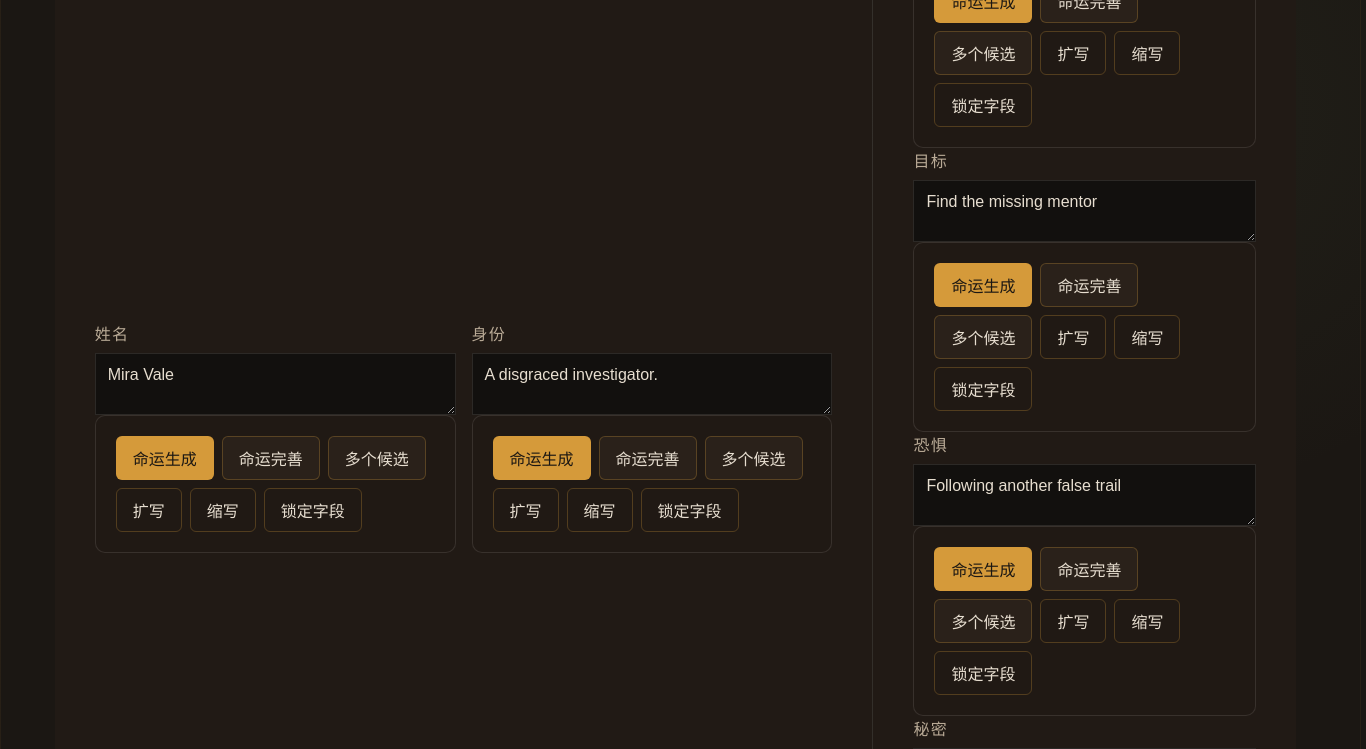
Test: Universal Character Creation page › renders all universal groups and dynamic fields in Advanced, then saves before preparing
(page scrolled)
Step 1. Replace the text in the text box labelled "姓名" with "米拉·维尔" → coordinates (275, 384), box [95, 354, 456, 416]
(page scrolled)
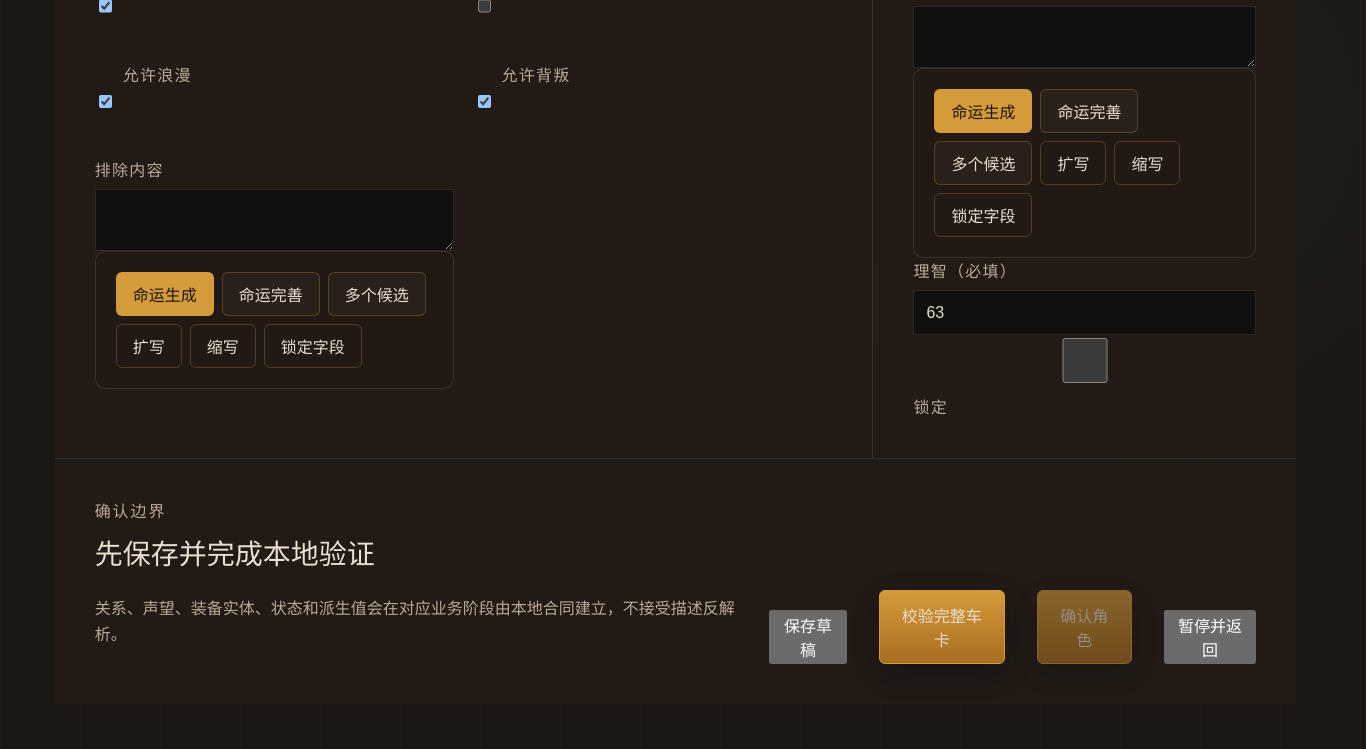
Step 2. Click the button "校验完整车卡" → coordinates (942, 627), box [879, 590, 1004, 664]
(page scrolled)
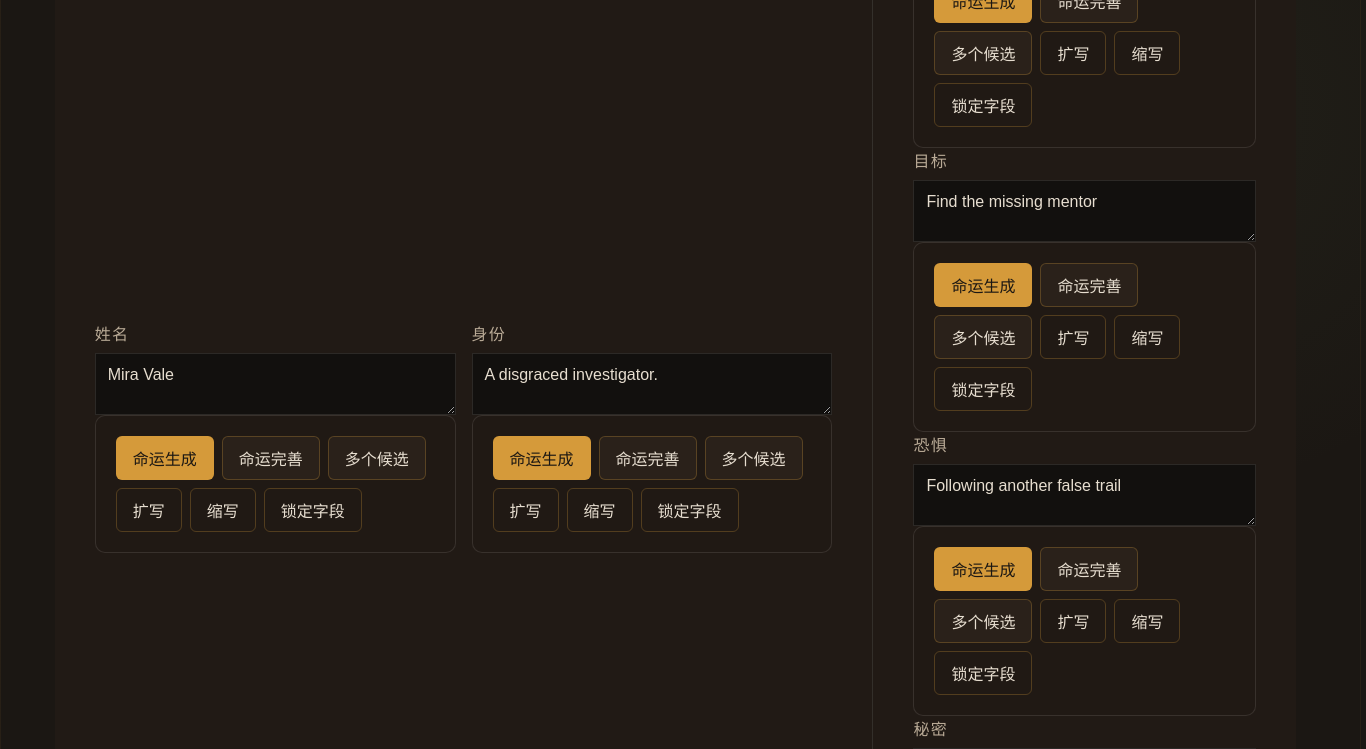
Step 3. Replace the text in the text box labelled "姓名" with "尚未保存的新名字" → coordinates (275, 384), box [95, 354, 456, 416]
(page scrolled)
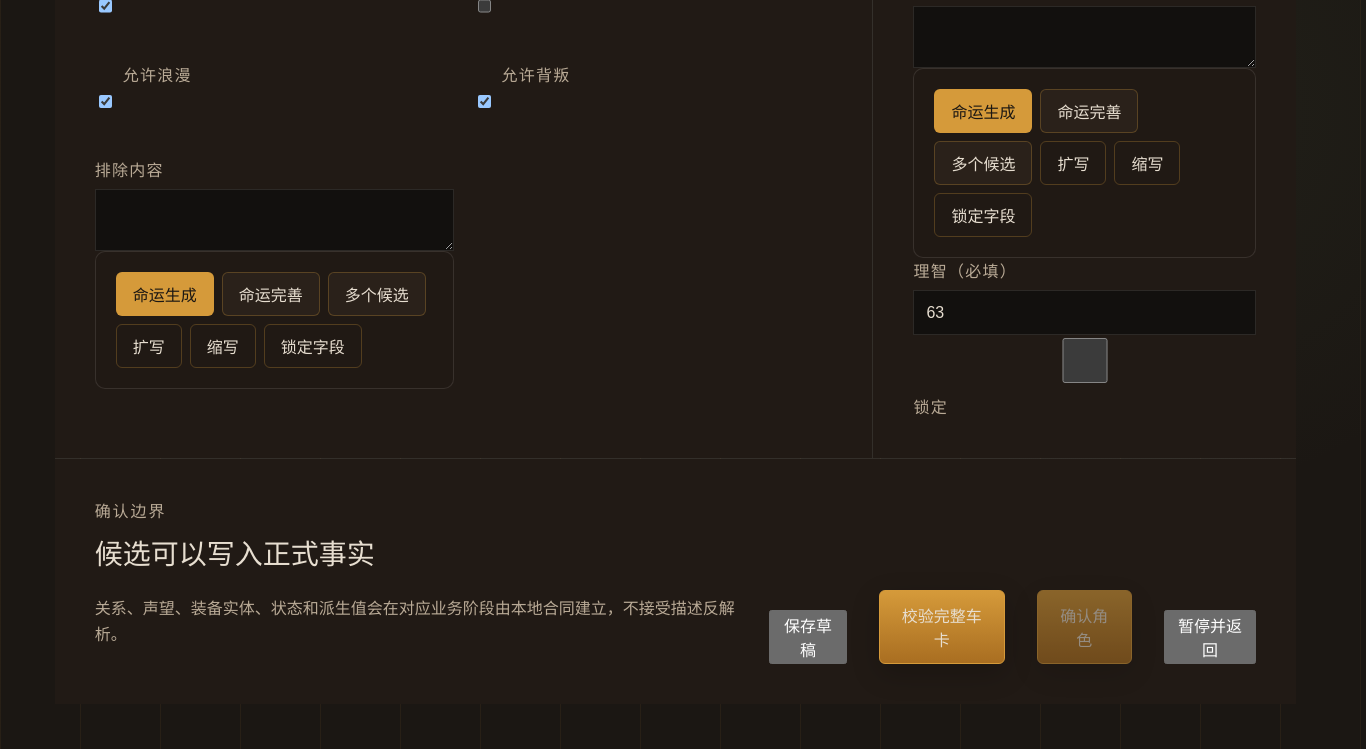
Now the button "确认角色" is disabled, box [1037, 590, 1132, 664]
